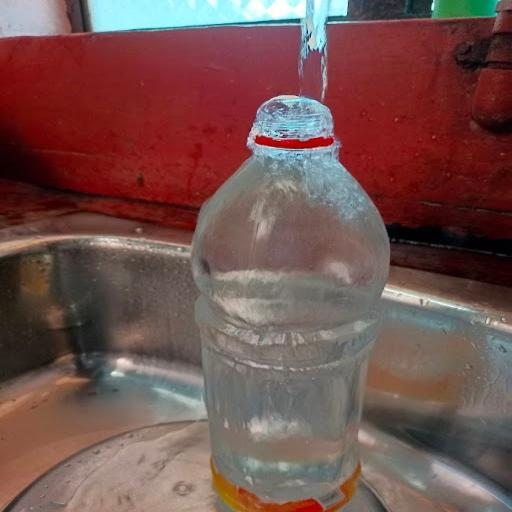bottle: (174, 86, 386, 512)
